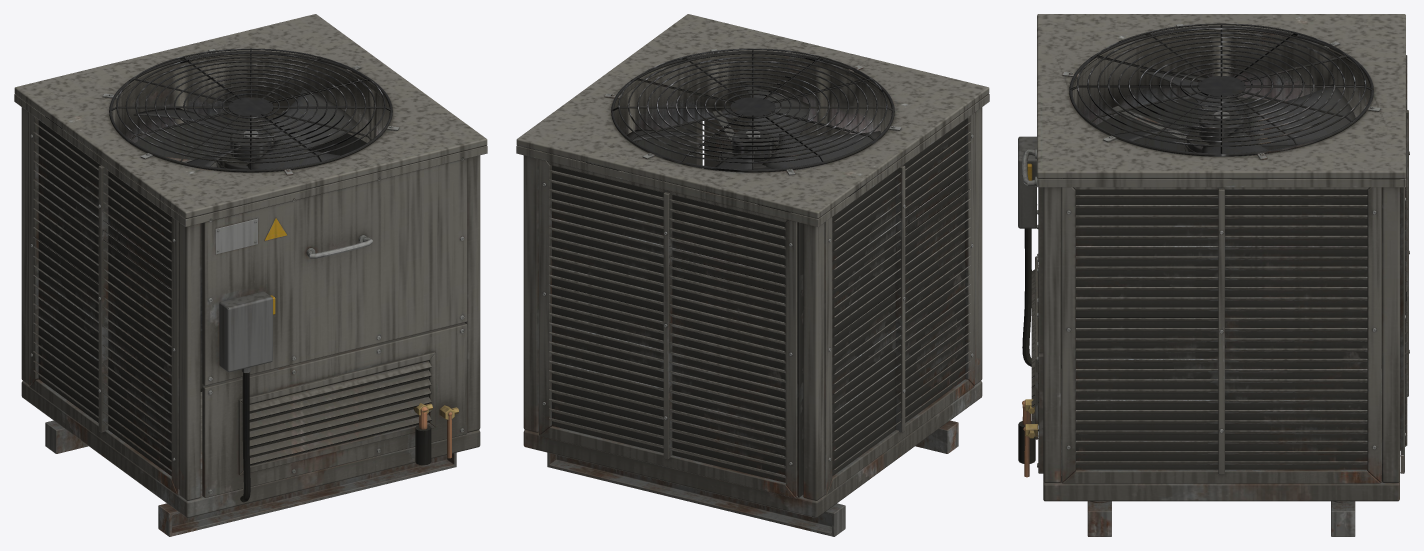
The picture shows the model from 3 angles, left to right: view 1: azimuth 30°, elevation 25°; view 2: azimuth 150°, elevation 25°; view 3: azimuth 270°, elevation 25°; orthographic projection. The views are drawn at different scales.
Parts seen in each view (by area): view 1: SM_OCK_RoofAC_B_Housing, SM_OCK_RoofAC_B_Coil, SM_OCK_RoofAC_B_Mech; view 2: SM_OCK_RoofAC_B_Coil, SM_OCK_RoofAC_B_Housing, SM_OCK_RoofAC_B_Mech; view 3: SM_OCK_RoofAC_B_Coil, SM_OCK_RoofAC_B_Housing, SM_OCK_RoofAC_B_Mech.
Part boxes in pixels (x1=…): SM_OCK_RoofAC_B_Housing: x1=14, y1=14, x2=487, y2=517; SM_OCK_RoofAC_B_Coil: x1=29, y1=110, x2=366, y2=495; SM_OCK_RoofAC_B_Mech: x1=45, y1=48, x2=458, y2=536; SM_OCK_RoofAC_B_Coil: x1=539, y1=112, x2=974, y2=498; SM_OCK_RoofAC_B_Housing: x1=516, y1=14, x2=989, y2=517; SM_OCK_RoofAC_B_Mech: x1=547, y1=48, x2=958, y2=536; SM_OCK_RoofAC_B_Coil: x1=1061, y1=55, x2=1409, y2=483; SM_OCK_RoofAC_B_Housing: x1=1022, y1=14, x2=1405, y2=501; SM_OCK_RoofAC_B_Mech: x1=1018, y1=23, x2=1381, y2=536.
Size of the model in its own units: 0.929 by 1.03 by 0.9665.
Materials: 3 (3 with a texture image).
